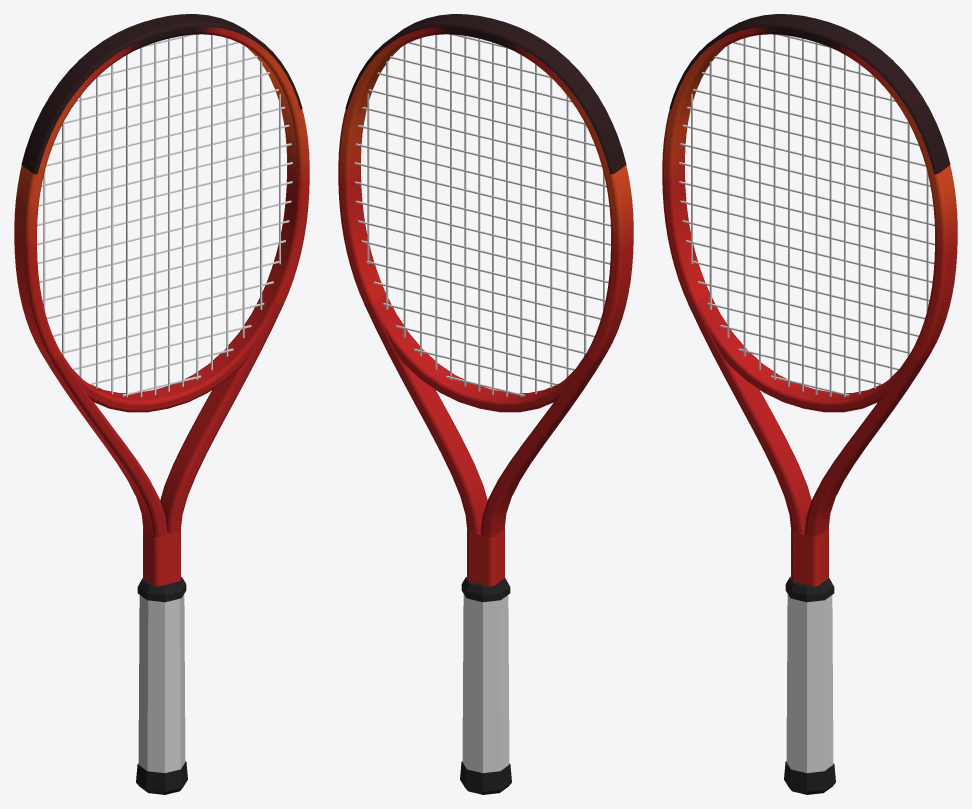
File: dunlop-cx-400-tour-2027.glb
The picture shows the model from 3 angles, left to right: view 1: azimuth 30°, elevation 25°; view 2: azimuth 150°, elevation 25°; view 3: azimuth 330°, elevation 25°; orthographic projection.
Visible parts, largest first — view 1: frame, strings_mains, strings_crosses, grip, bumper, butt_cap, collar; view 2: frame, strings_mains, strings_crosses, grip, bumper, butt_cap, collar; view 3: frame, strings_mains, strings_crosses, grip, bumper, butt_cap, collar.
Boxes of the visible parts, box(x1,y1,x2,y2) form: frame: box(14, 27, 309, 586); strings_mains: box(43, 34, 280, 396); strings_crosses: box(37, 34, 292, 396); grip: box(138, 594, 185, 772); bumper: box(21, 14, 302, 174); butt_cap: box(136, 761, 187, 794); collar: box(137, 577, 186, 602); frame: box(338, 27, 633, 586); strings_mains: box(367, 34, 604, 396); strings_crosses: box(354, 34, 610, 396); grip: box(462, 594, 509, 772); bumper: box(345, 14, 626, 174); butt_cap: box(460, 761, 511, 794); collar: box(461, 577, 510, 602); frame: box(662, 27, 957, 586); strings_mains: box(691, 34, 928, 396); strings_crosses: box(679, 34, 934, 396); grip: box(786, 594, 833, 772); bumper: box(669, 14, 950, 174); butt_cap: box(784, 761, 835, 794); collar: box(785, 577, 834, 602).
Bounding box in the file's own units: 0.2677 × 0.6861 × 0.0396.
